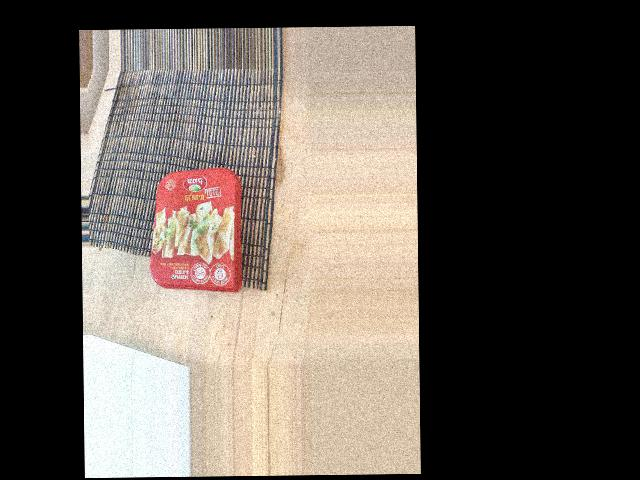cheese: (72, 126, 216, 211)
